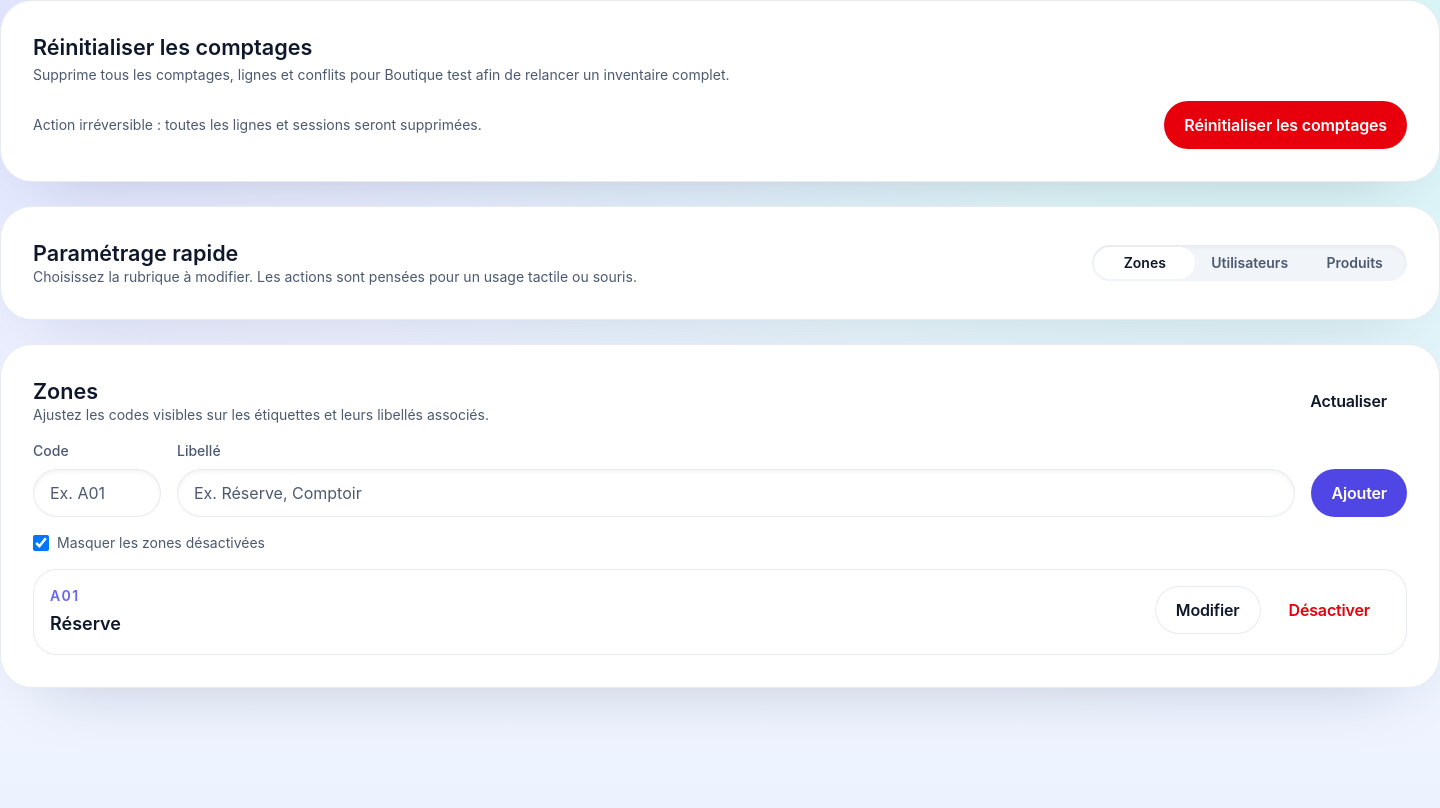
Test: AdminLocationsPage › réinitialise les comptages et rafraîchit le statut d'import
Click the tab "Produits" at point(1355, 263), box [1304,247,1405,279]
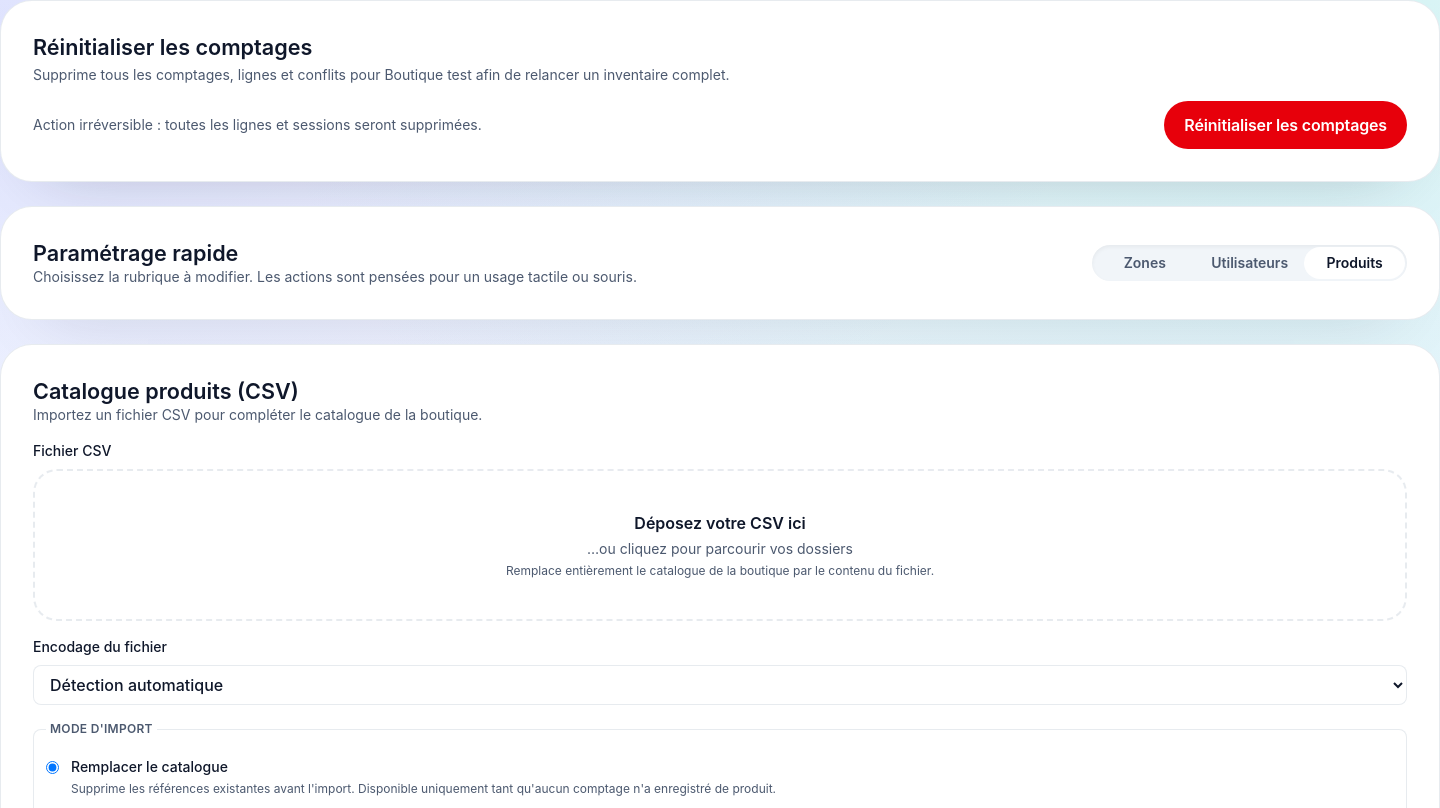
Click the button "Réinitialiser les comptages" at point(1286, 125), box [1164,101,1407,149]
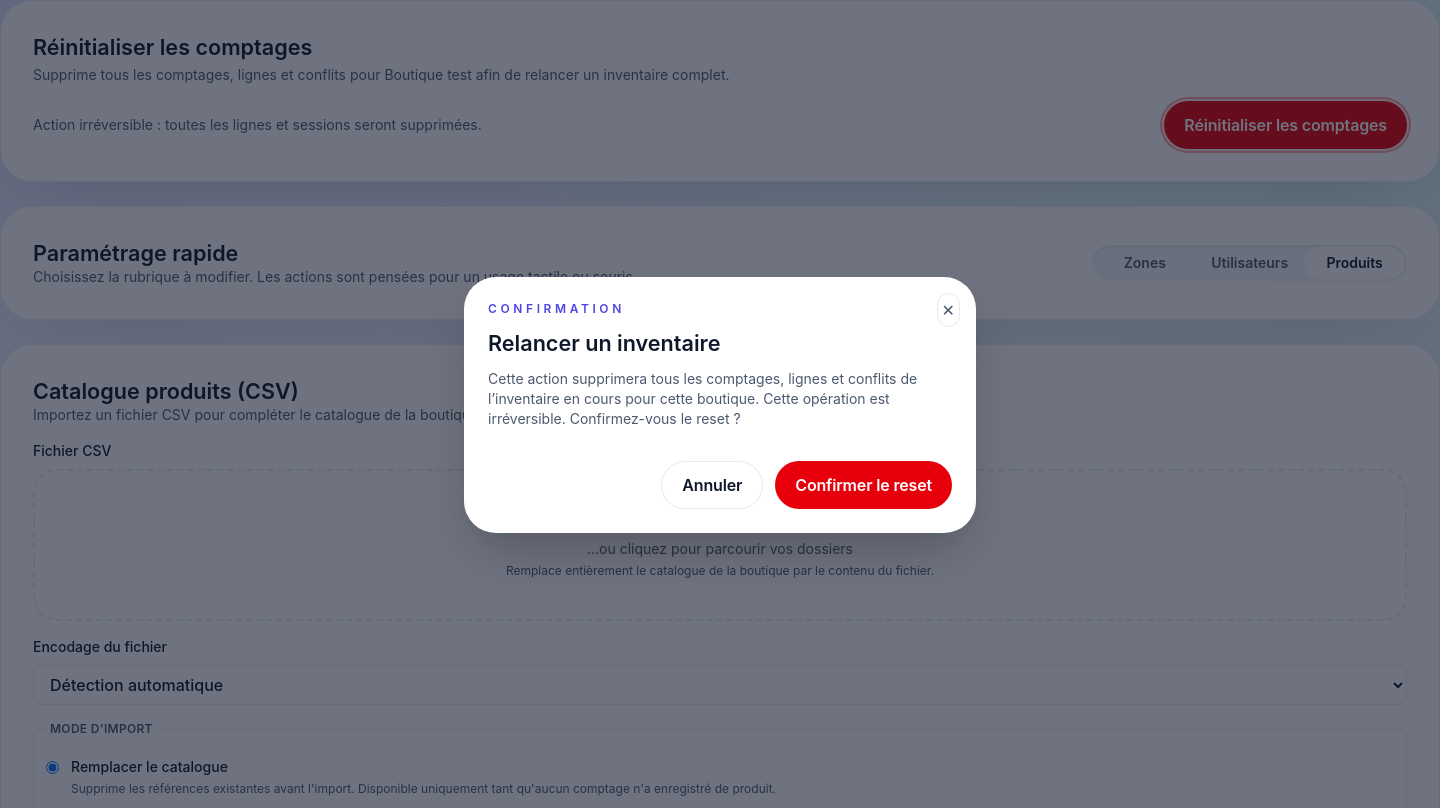
Click the button "Confirmer le reset" at point(864, 485), box [775,461,952,509]
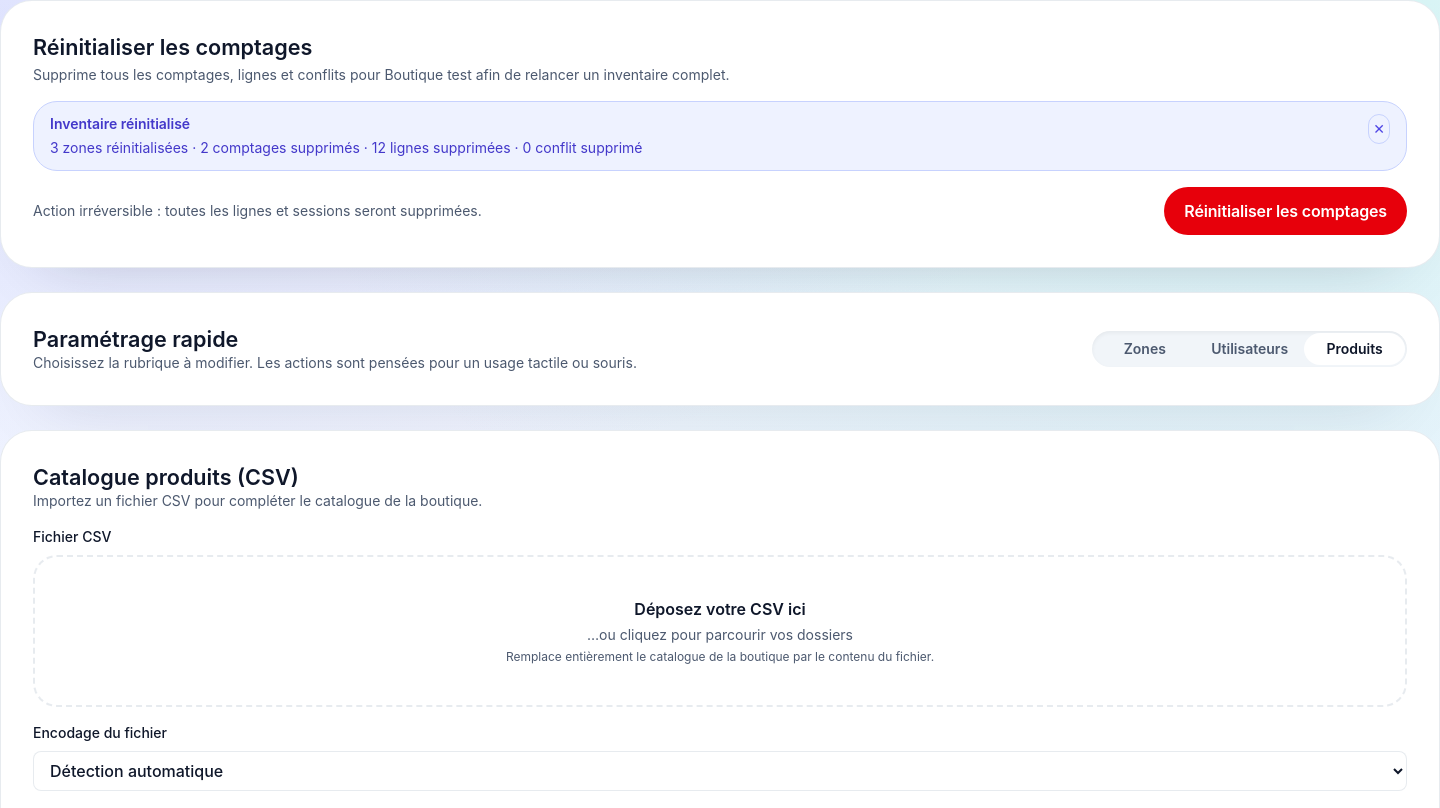
Result: the text "Inventaire réinitialisé" is shown at [50,115,190,132]
Result: the text "3 zones réinitialisées" is shown at [50,139,642,156]
